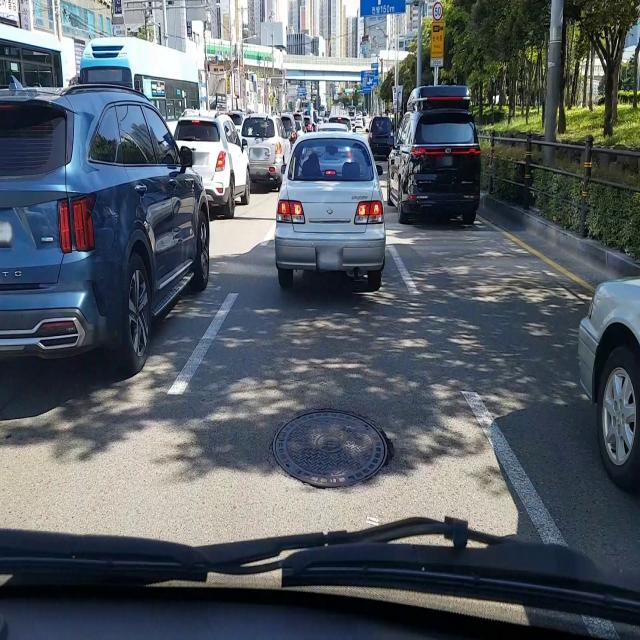Pothole: (272, 406, 396, 490)
